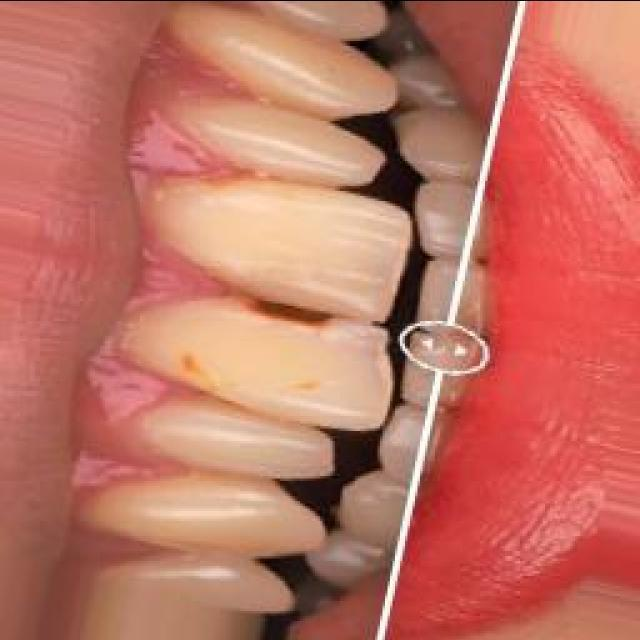decay: (258, 295, 338, 317)
